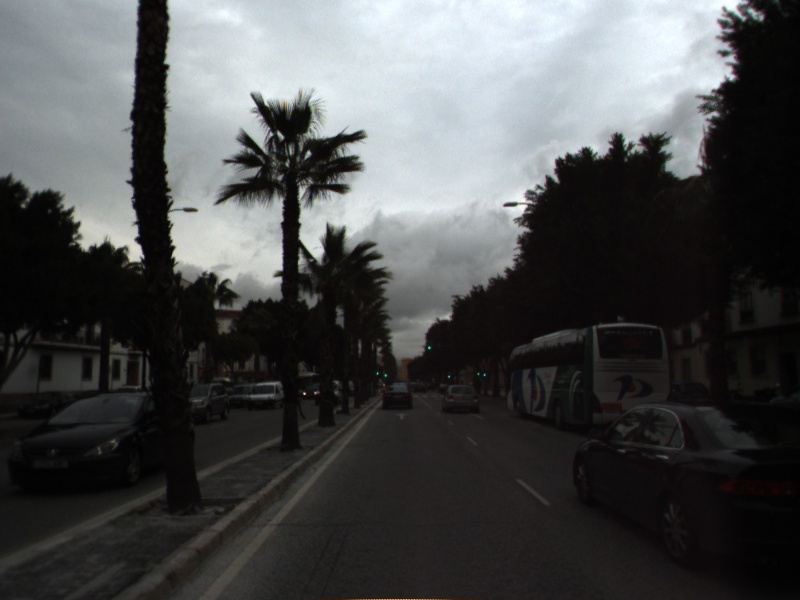STRAIGHT: (392, 410, 411, 422)
